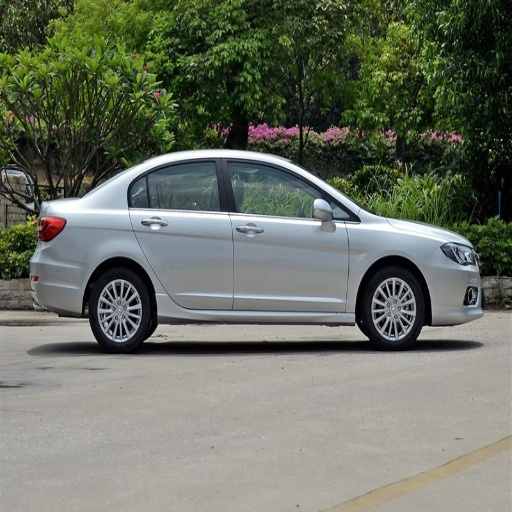back_right_door: (130, 156, 233, 311)
front_right_door: (224, 156, 345, 308)
